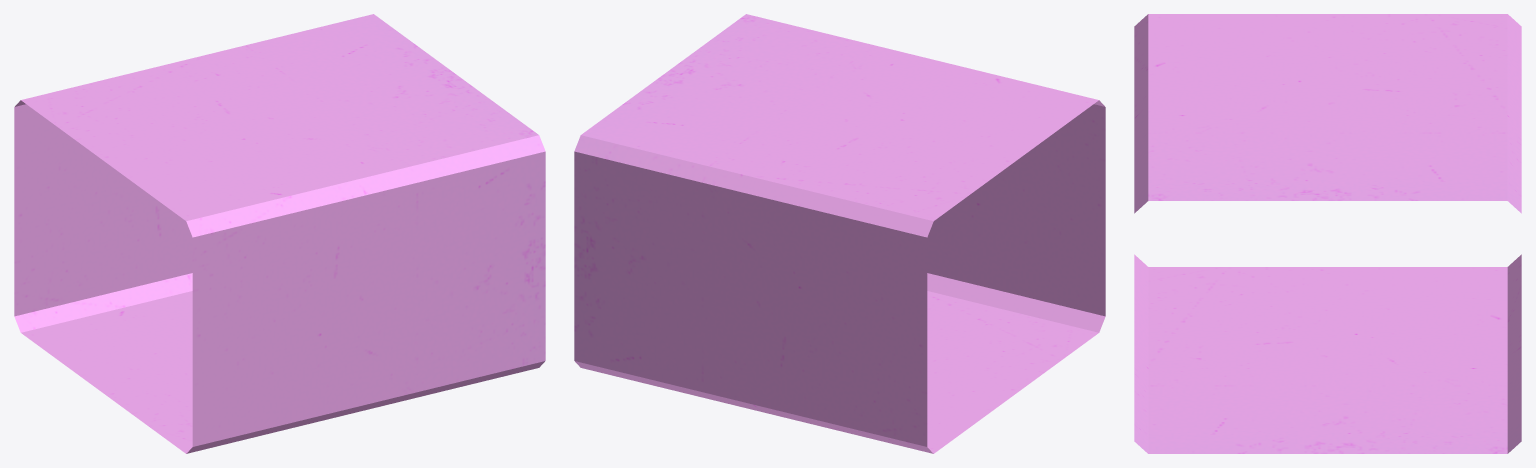
Rendered from AirDuct_01_SM_Low.fbx.
The picture shows the model from 3 angles, left to right: view 1: azimuth 30°, elevation 25°; view 2: azimuth 150°, elevation 25°; view 3: azimuth 270°, elevation 25°; orthographic projection. The views are drawn at different scales.
Parts seen in each view (by area): view 1: Single; view 2: Single; view 3: Single.
Part boxes in pixels (x1,y1,x2,y2): Single: (14, 14, 545, 453); Single: (574, 14, 1105, 453); Single: (1134, 14, 1521, 453).
Bounding box in the file's own units: 102 × 64 × 88.9.
1 material, 1 textured.
